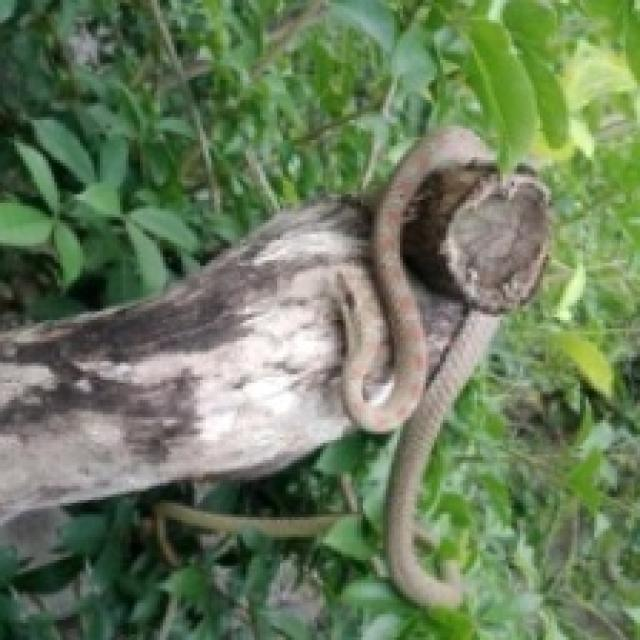paradise tree snake: (0, 129, 546, 603), (334, 129, 546, 606)
